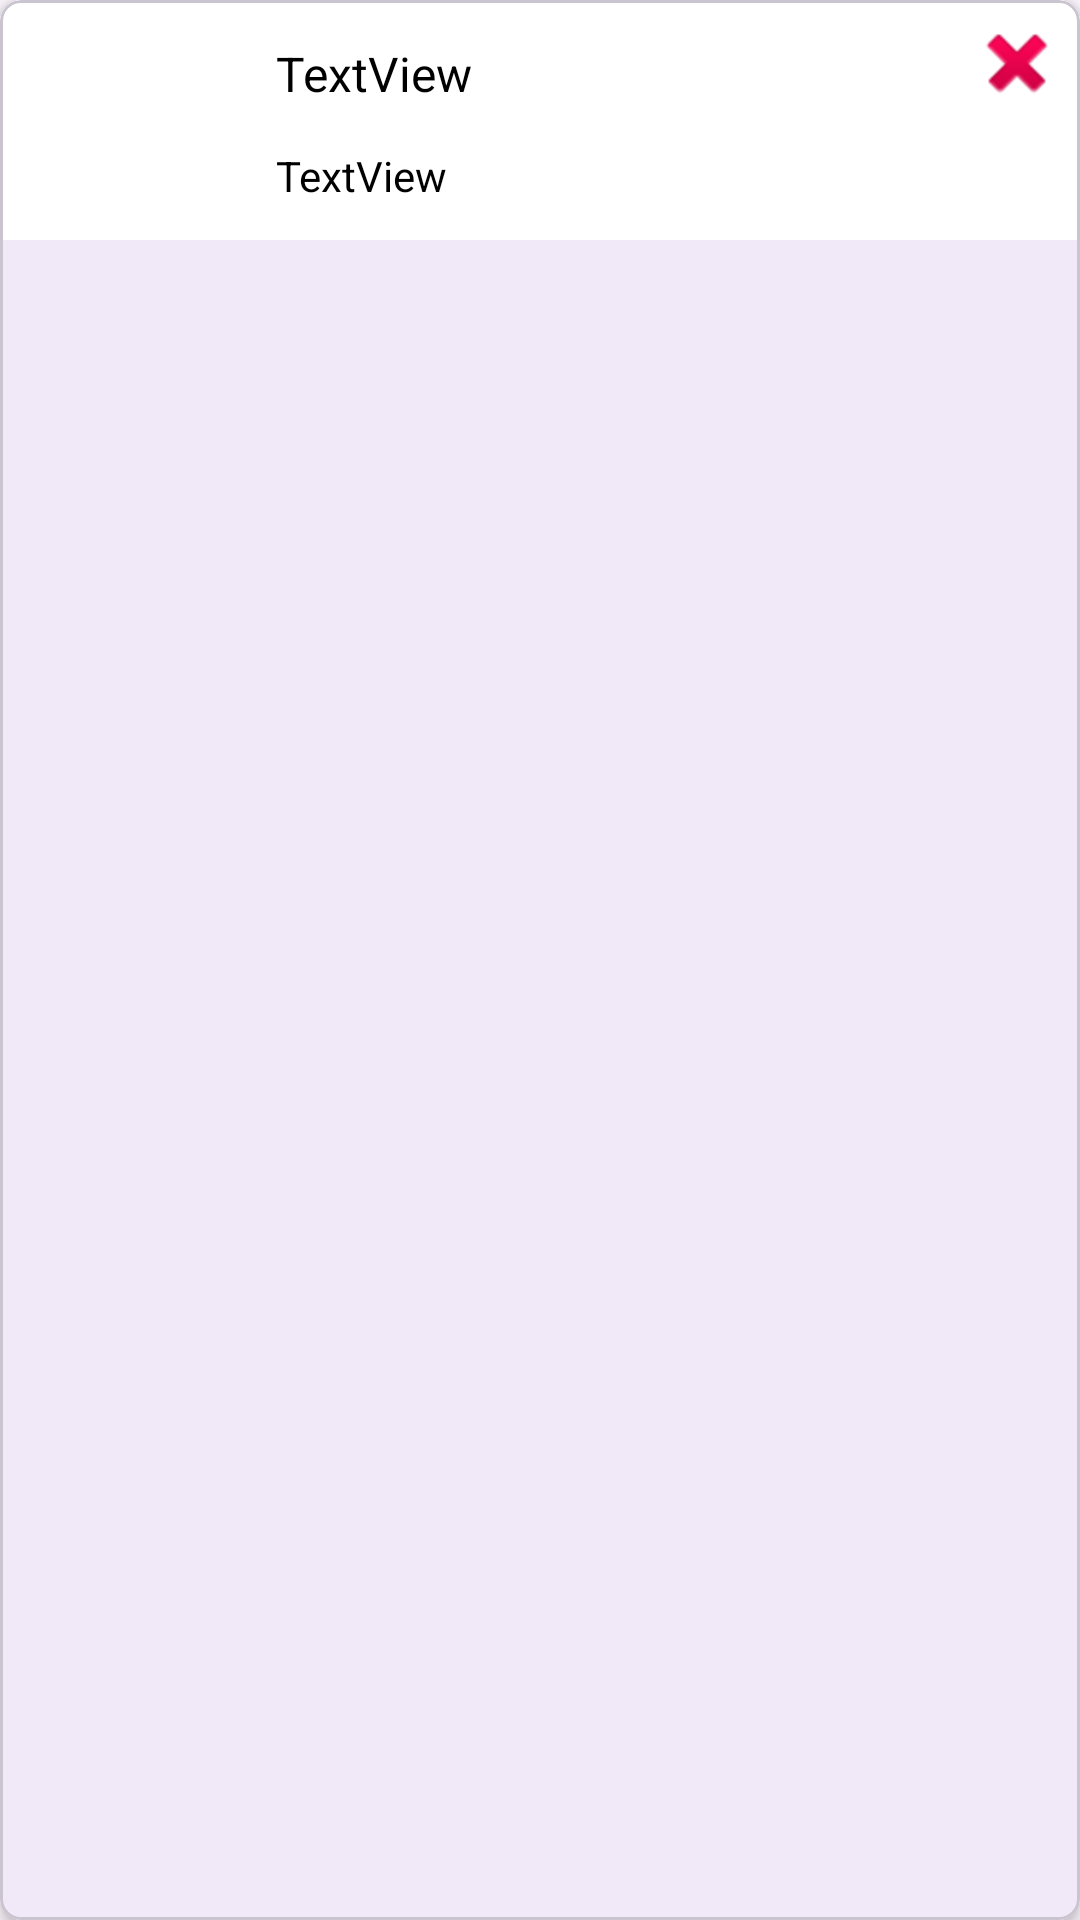

Icon bounding boxes for this 1080px x 1920px phone screenshot, format (x1, y1, x2, y2):
delete: (986, 34, 1048, 93)
